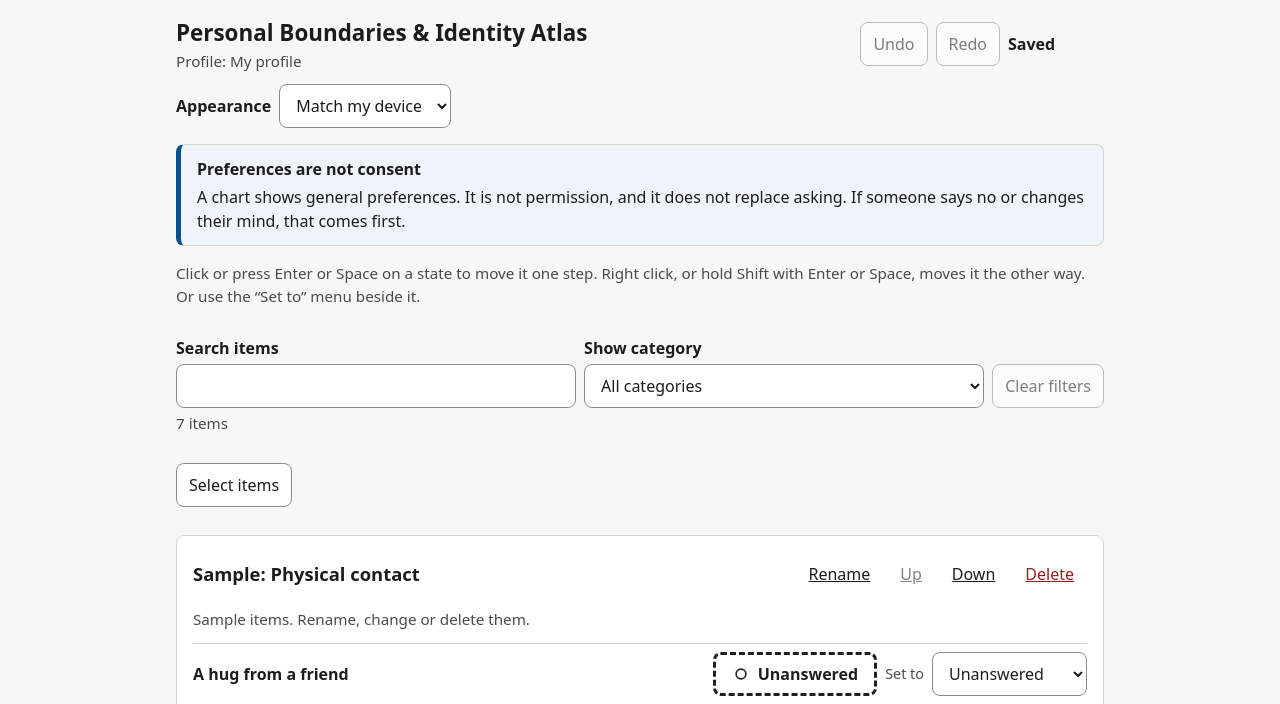
Test case: search (M2-05) › narrows the chart as the person types, and says how many match
Expected: the heading "Personal Boundaries & Identity Atlas" is shown, [176,16,588,50]
Type "hug" into the search field labelled "Search items".
click(376, 386); type("hug")  # box [176,364,576,408]
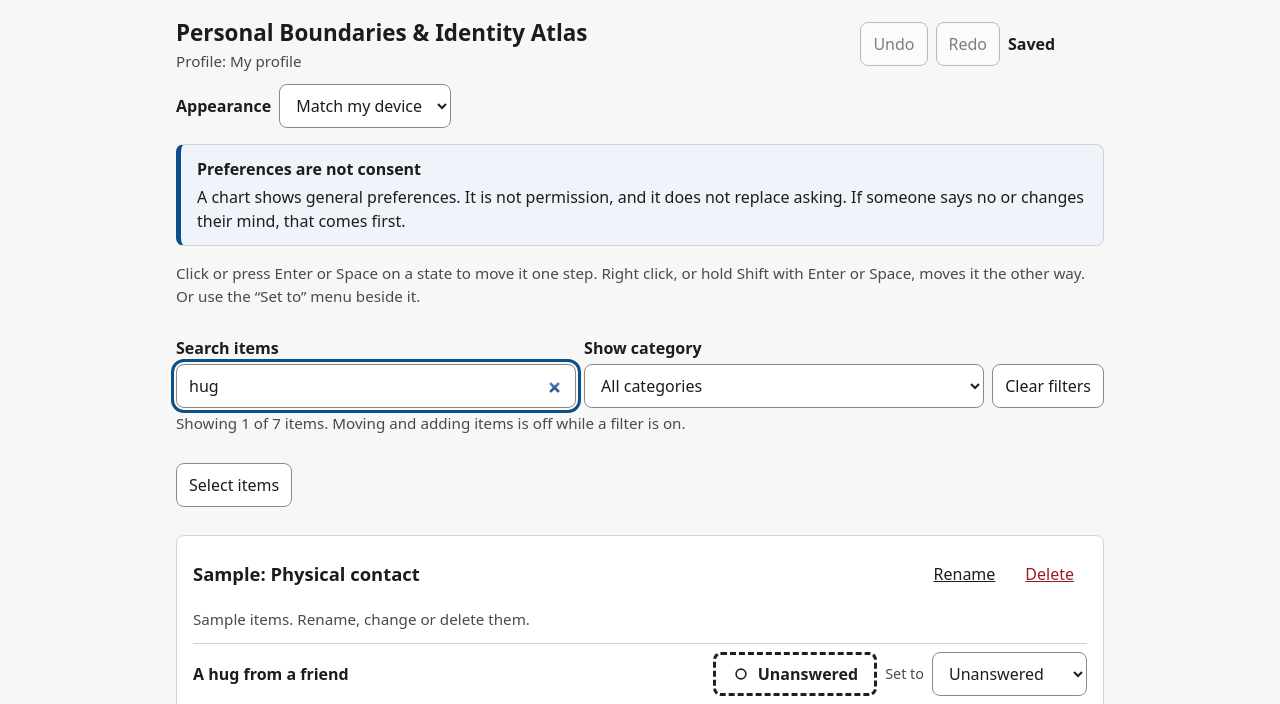
Result: the message with class "search-summary" shows "Showing 1 of 7 items" at [176,413,686,433]
Result: the button "Clear filters" is enabled at [992,364,1104,408]
